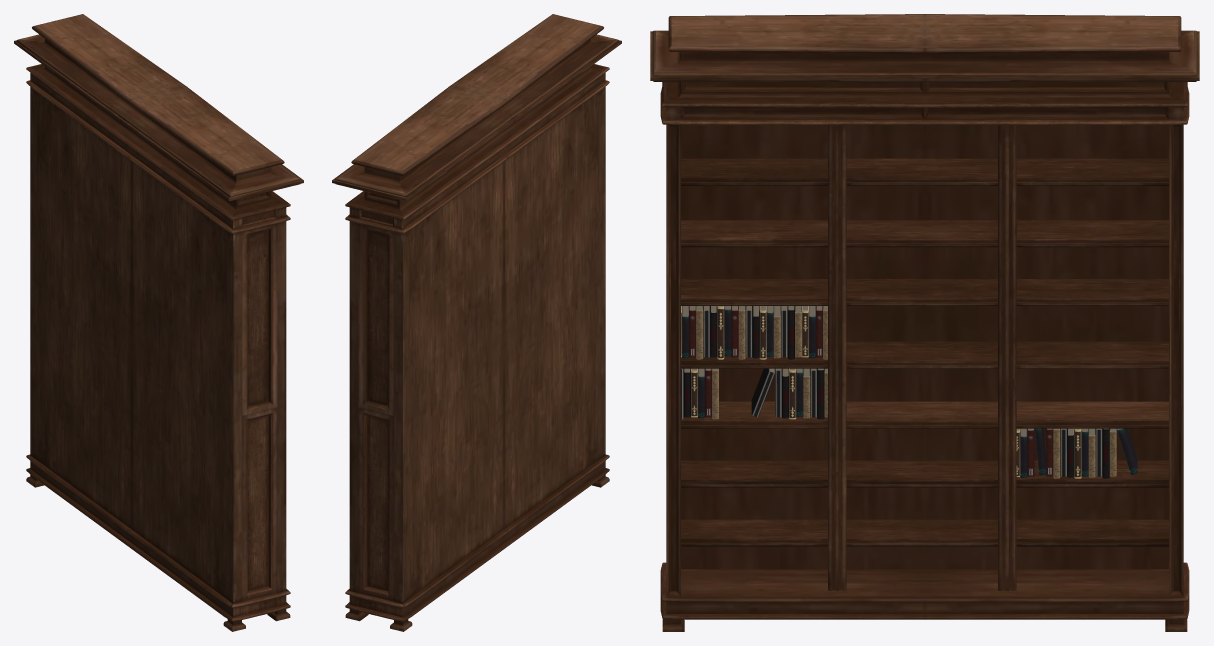
File: bookshelf1.glb
3 views of the same model, side by side, from view 1: azimuth 30°, elevation 25°; view 2: azimuth 150°, elevation 25°; view 3: azimuth 270°, elevation 25° (orthographic). The views are drawn at different scales.
Visible parts, largest first — view 1: shelf_Shelf_0; view 2: shelf_Shelf_0; view 3: shelf_Shelf_0, 3.001, 3, 1.
Boxes of the visible parts, x1,y1,x2,y2 form: shelf_Shelf_0: (14, 14, 303, 631); shelf_Shelf_0: (332, 14, 621, 631); shelf_Shelf_0: (650, 14, 1199, 631); 3.001: (681, 306, 827, 359); 3: (1016, 428, 1137, 478); 1: (681, 368, 827, 419).
Size of the model in its own units: 0.5692 by 3.29 by 2.81.
2 materials, 2 textured.
